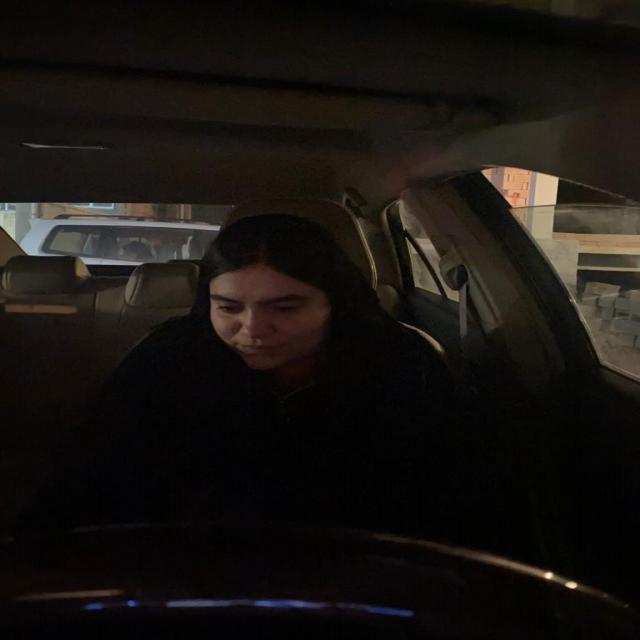person: (192, 210, 375, 388)
